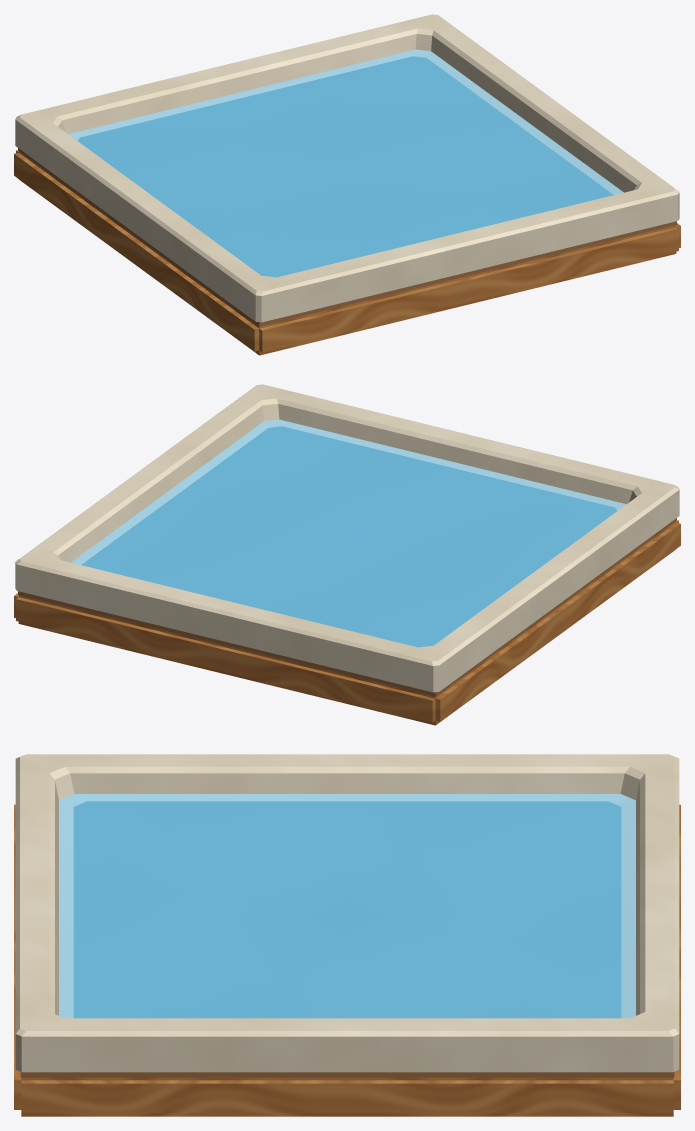
File: tuile_eau.glb
3 views of the same model, one above another, from view 1: azimuth 30°, elevation 25°; view 2: azimuth 150°, elevation 25°; view 3: azimuth 270°, elevation 25° (orthographic). The views are drawn at different scales.
Visible parts, largest first — view 1: tuile_eau; view 2: tuile_eau; view 3: tuile_eau.
Boxes of the visible parts, x1,y1,x2,y2 form: tuile_eau: (14,14,680,355); tuile_eau: (14,384,680,725); tuile_eau: (14,754,680,1116).
Bounding box in the file's own units: 1.96 × 0.28 × 1.96.
Materials: 5 (2 with a texture image).
